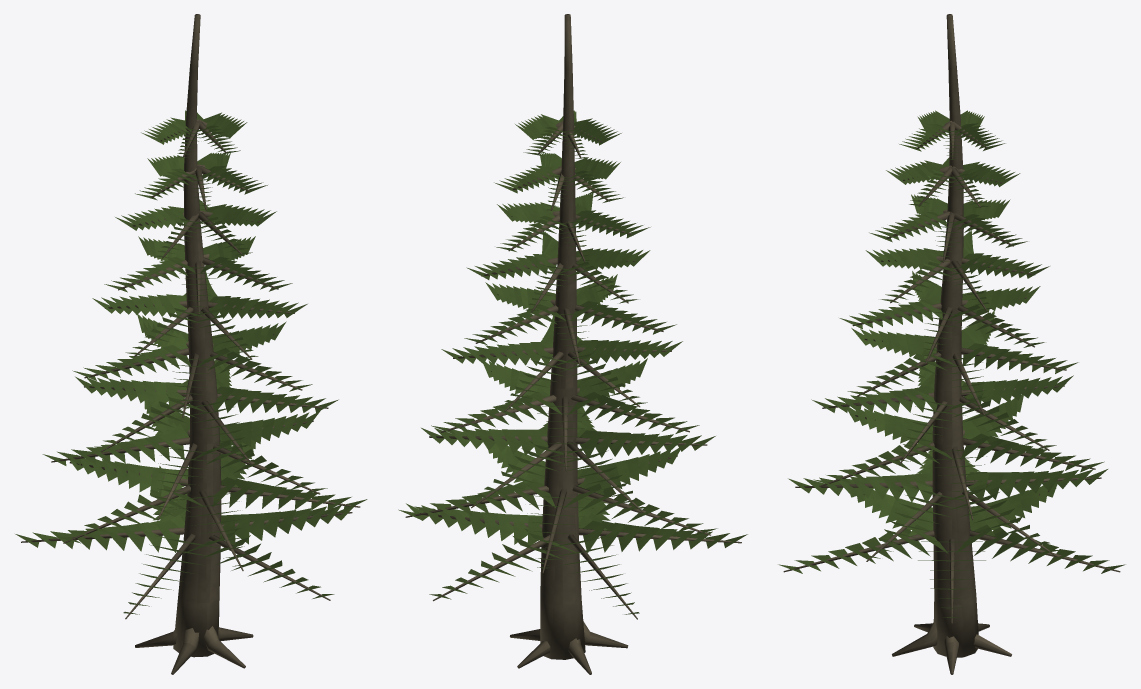
Rendered from veg_tree_conifer.glb.
3 views of the same model, side by side, from view 1: azimuth 30°, elevation 25°; view 2: azimuth 150°, elevation 25°; view 3: azimuth 270°, elevation 25° (orthographic).
Parts seen in each view (by area): view 1: needle_sprays, trunk_and_branches; view 2: needle_sprays, trunk_and_branches; view 3: needle_sprays, trunk_and_branches.
Part boxes in pixels (x1,y1,x2,y2): needle_sprays: (15, 110, 367, 614); trunk_and_branches: (21, 14, 360, 674); needle_sprays: (398, 110, 747, 614); trunk_and_branches: (405, 14, 741, 674); needle_sprays: (778, 110, 1125, 617); trunk_and_branches: (783, 14, 1120, 674).
Size of the model in its own units: 4.05 by 8.02 by 4.01.
2 materials, 2 textured.
